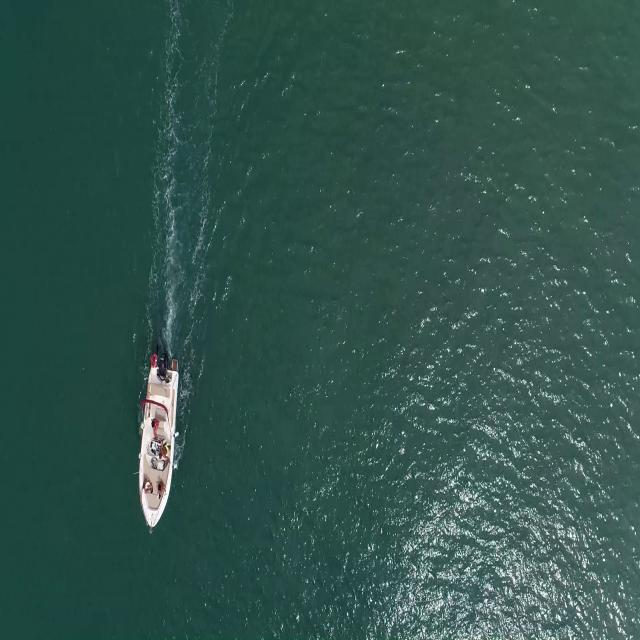boat: (136, 368, 180, 534)
life_buoy: (150, 354, 159, 366)
person: (158, 443, 174, 466), (140, 477, 153, 502), (150, 416, 160, 440), (156, 482, 166, 500)
